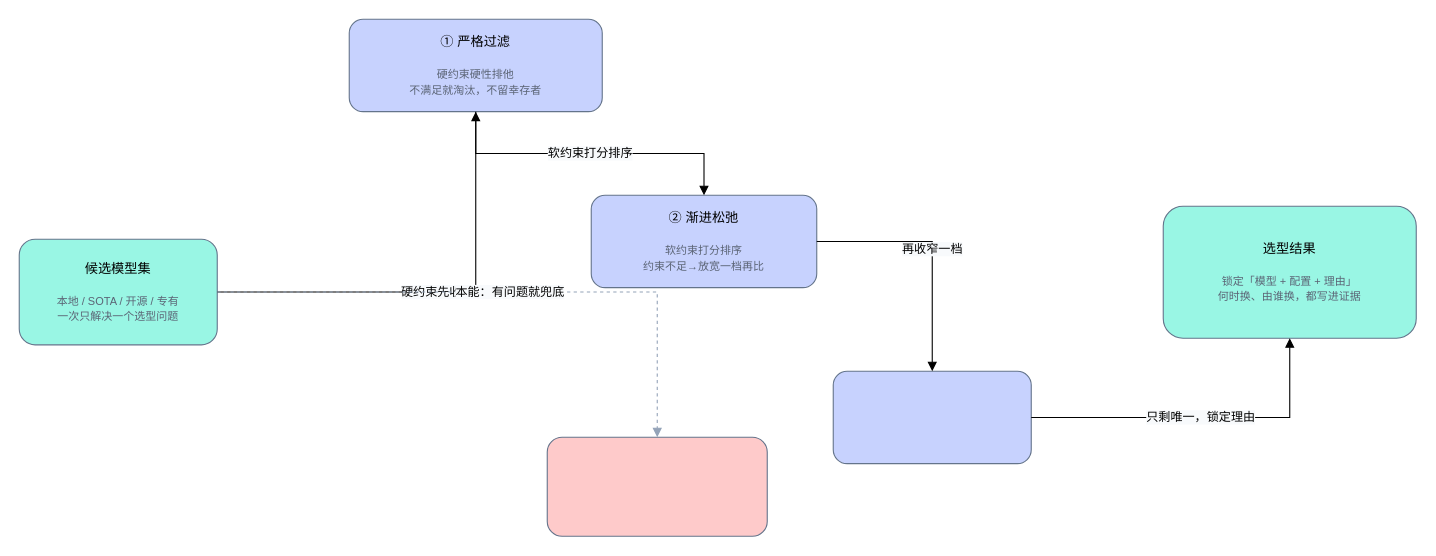
This 1436x556 diagram has some shape labels left out. Here are the shapes that lost their labels. From the top down, the centre of each, then its label:
At (931,417): "③ 显式失败 无解就宣告 no-solution 不拿模糊兜底补位".
At (656,486): "fallback 陷阱 一遇到跨域就兜底 兜得越多，链越不可证".
